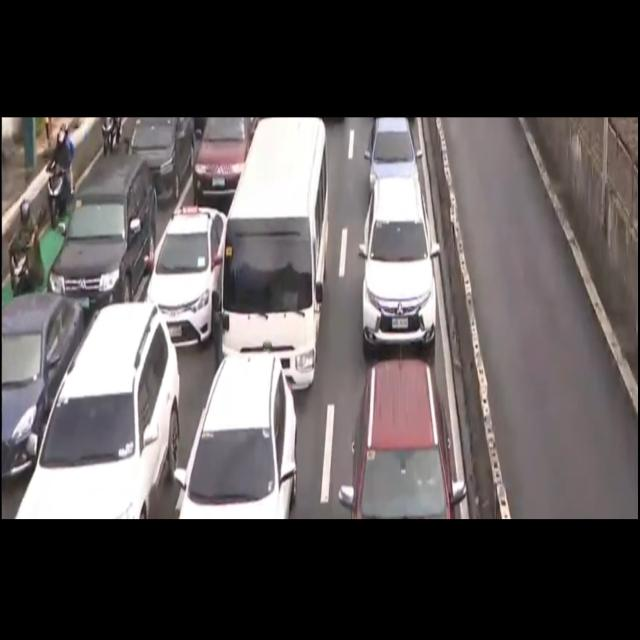Motorcycle: (44, 120, 78, 234), (11, 201, 42, 289)
SUV: (21, 305, 170, 517), (185, 356, 297, 514), (46, 158, 152, 312), (352, 366, 455, 521), (356, 184, 440, 348), (124, 117, 198, 194)
Sedan: (2, 283, 82, 480), (146, 200, 226, 357)
Van: (217, 119, 336, 394)
